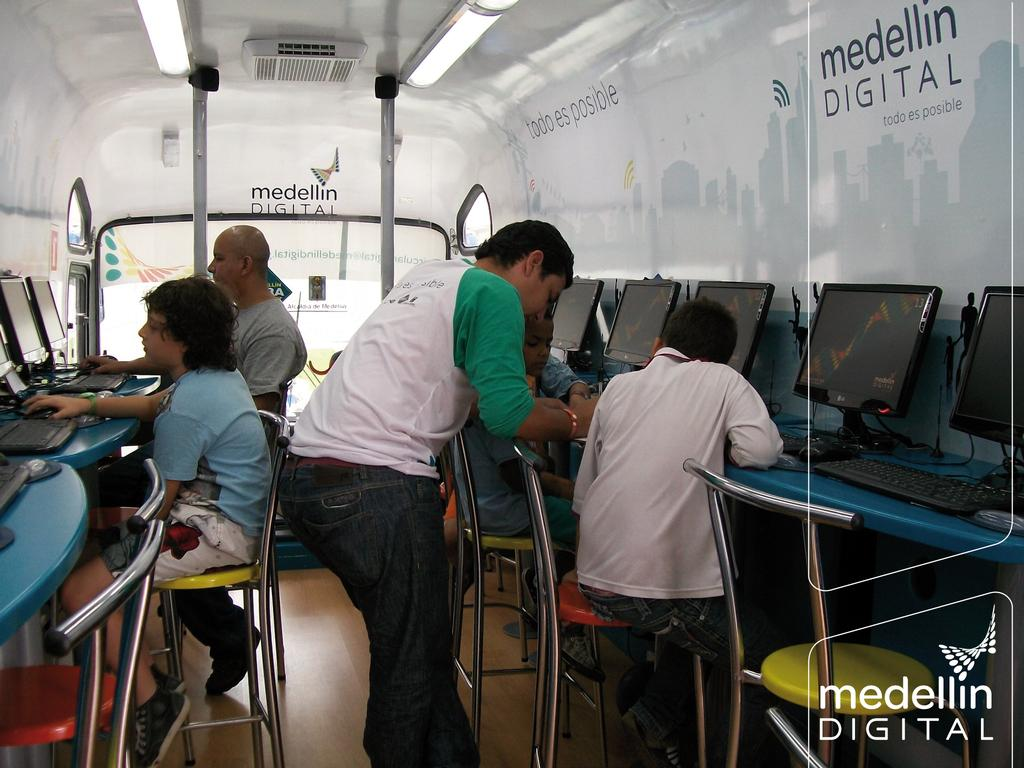Chair: (681, 456, 970, 767), (512, 439, 709, 767), (448, 424, 606, 754)
